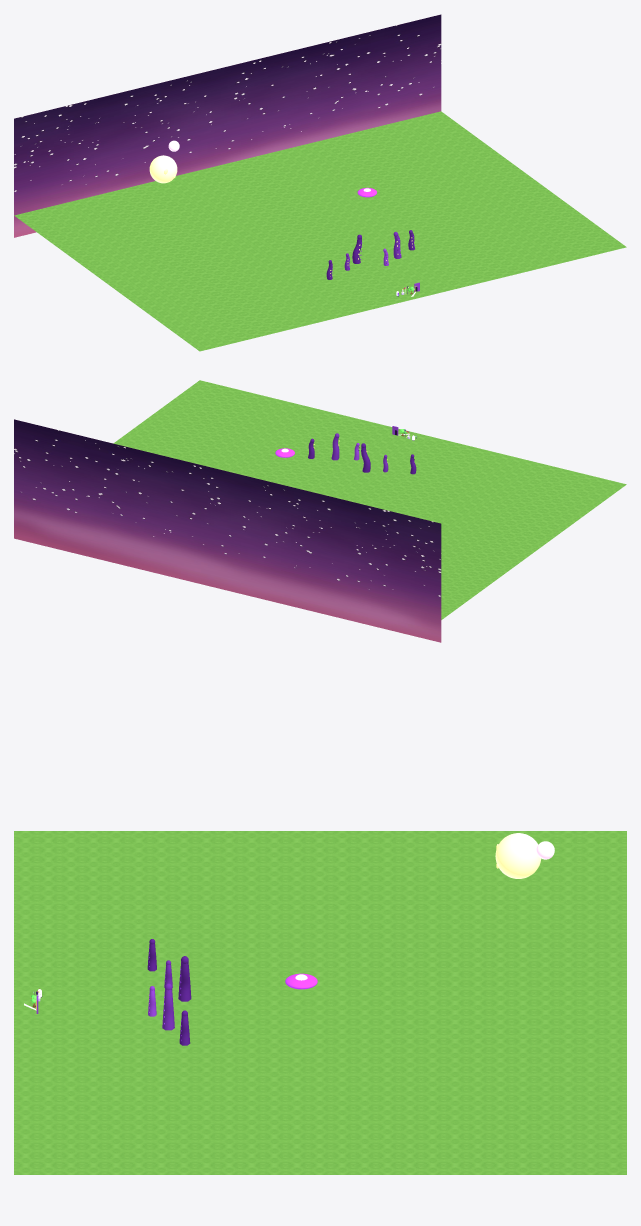
File: fgarten.glb
The picture shows the model from 3 angles, top to bottom: view 1: azimuth 30°, elevation 25°; view 2: azimuth 150°, elevation 25°; view 3: azimuth 270°, elevation 25°; orthographic projection. The views are drawn at different scales.
Parts seen in each view (by area): view 1: FG_Wiese.001, FG_Himmel.001, FG_Mond.001; view 2: FG_Himmel.001, FG_Wiese.001; view 3: FG_Wiese.001, FG_Mond.001.
Part boxes in pixels (<box>): FG_Wiese.001: <box>14,111,626,351</box>; FG_Himmel.001: <box>14,14,441,237</box>; FG_Mond.001: <box>149,155,177,183</box>; FG_Himmel.001: <box>14,419,441,642</box>; FG_Wiese.001: <box>113,380,626,619</box>; FG_Wiese.001: <box>14,831,626,1174</box>; FG_Mond.001: <box>495,833,541,878</box>.
Size of the model in its own units: 300 by 80 by 226.
55 materials, 4 textured.
